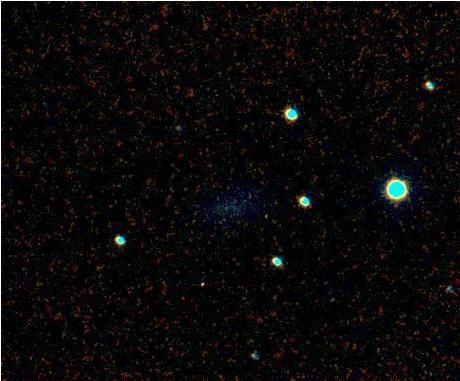star: (187, 262, 217, 292)
